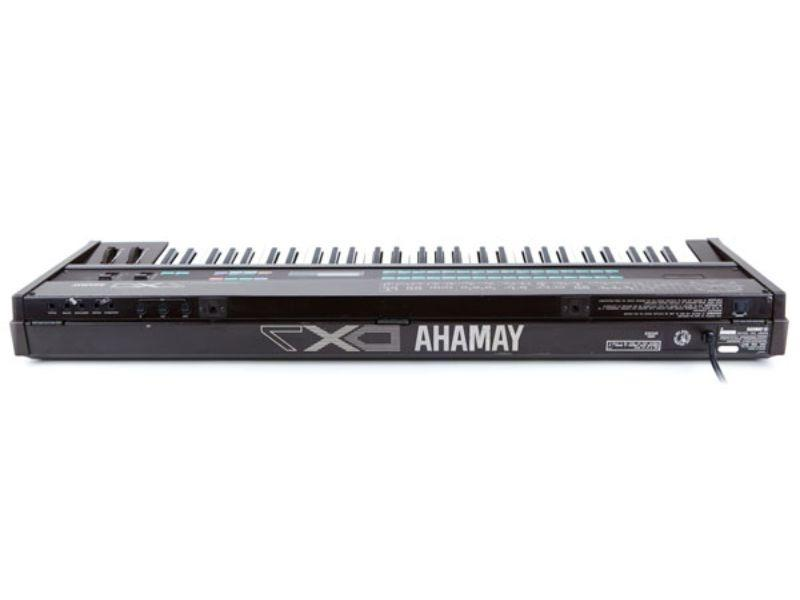synthesizer: (15, 222, 791, 397)
